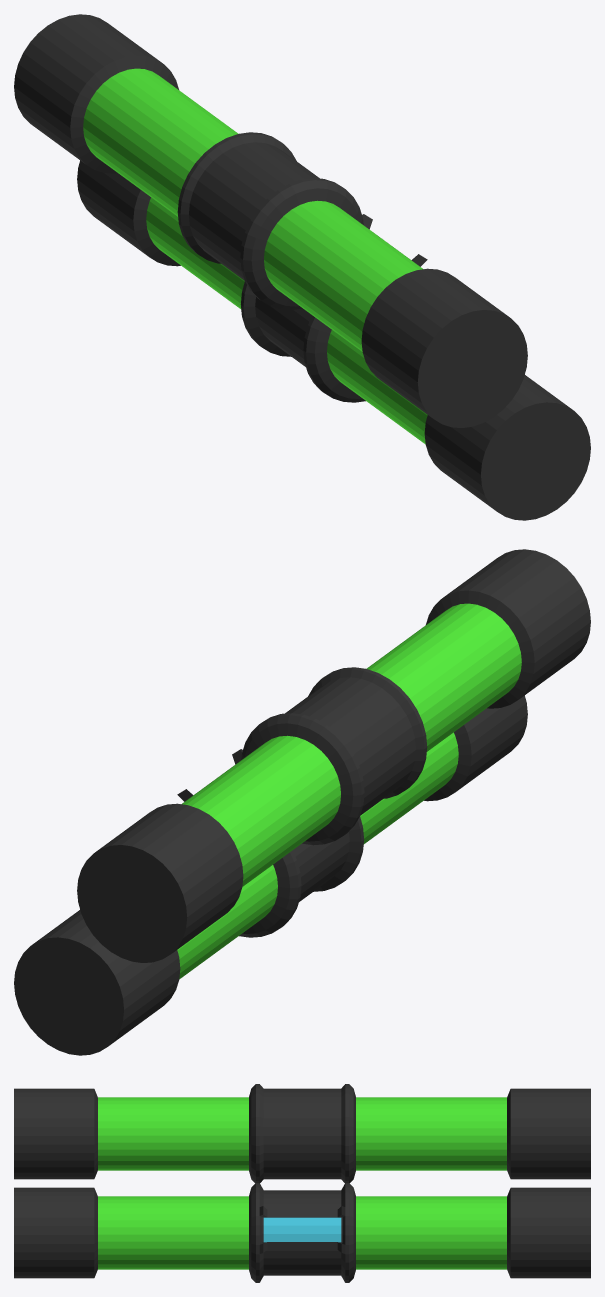
The model's file is Engines.fbx.
The picture shows the model from 3 angles, top to bottom: view 1: azimuth 30°, elevation 25°; view 2: azimuth 150°, elevation 25°; view 3: azimuth 270°, elevation 25°; orthographic projection. The views are drawn at different scales.
Parts seen in each view (by area): view 1: Engines; view 2: Engines; view 3: Engines.
Part boxes in pixels (<box>): Engines: <box>14,14,590,520</box>; Engines: <box>14,549,590,1055</box>; Engines: <box>14,1084,590,1282</box>.
Bounding box in the file's own units: 377 × 407 × 1270.
